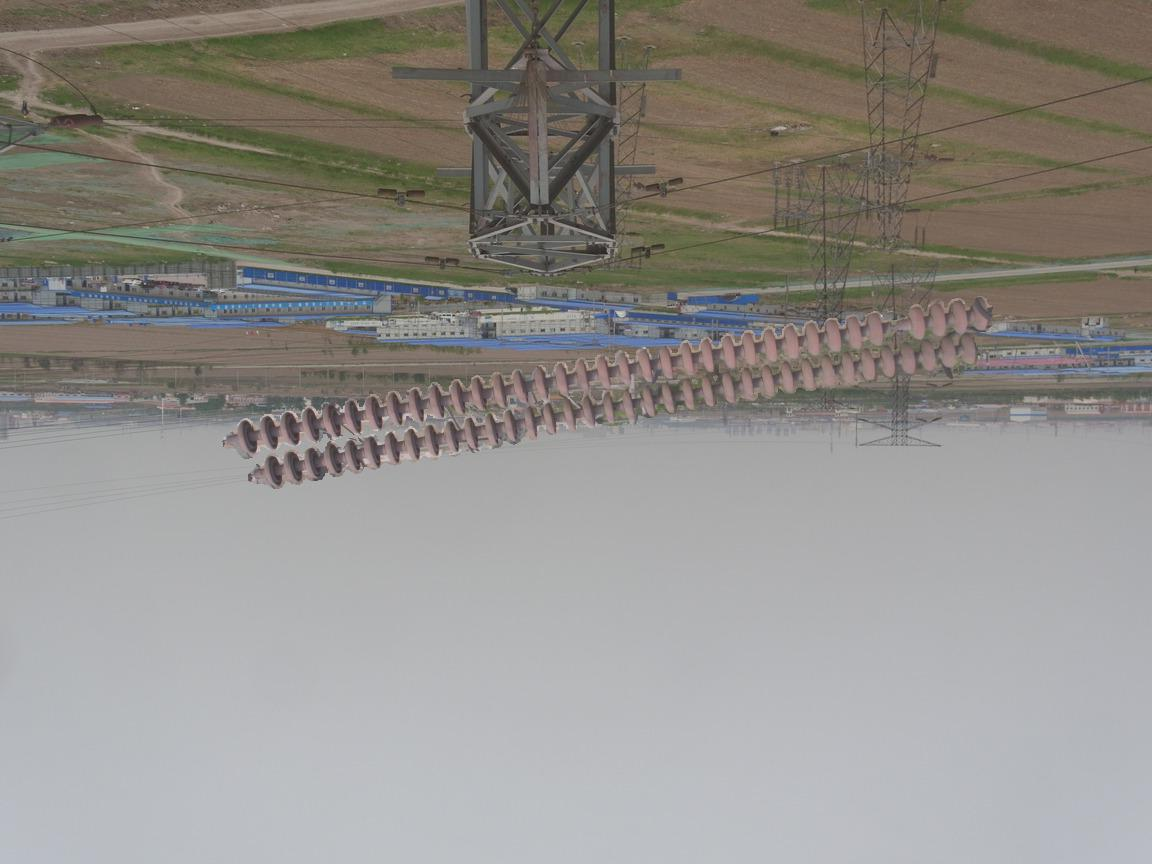insulator: (232, 292, 998, 491)
insulator_stringdrop: (864, 299, 930, 349)
